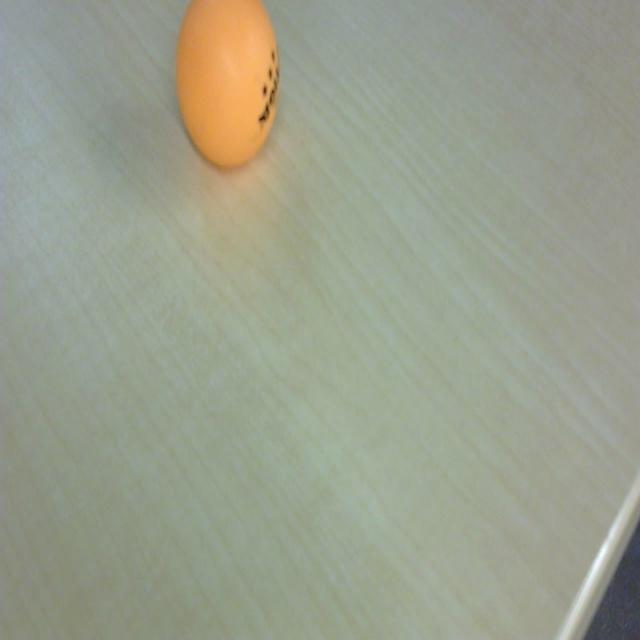ball: (176, 0, 280, 169)
